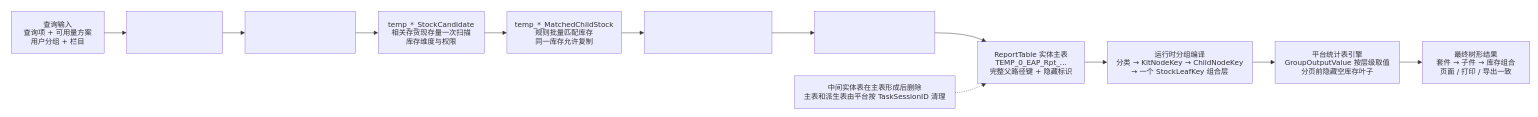
This 1538x117 diagram has some shape labels left out. Each missing label, with the centre of its shape:
"temp_*_ChildQuantitySummary 现存量 / 可用量汇总 无库存显示空、计算按 0" goes at [708,32].
"temp_*_KitChildRule 每个 BomChildId 一条规则 BOM / 查询条件优先级" goes at [300,32].
"temp_*_KitQuantitySummary 最小成套数 限制子件 / 已订未执行量" goes at [874,32].
"temp_*_KitSet 套件范围 / 权限 停用与默认 BOM 校验" goes at [174,32].
